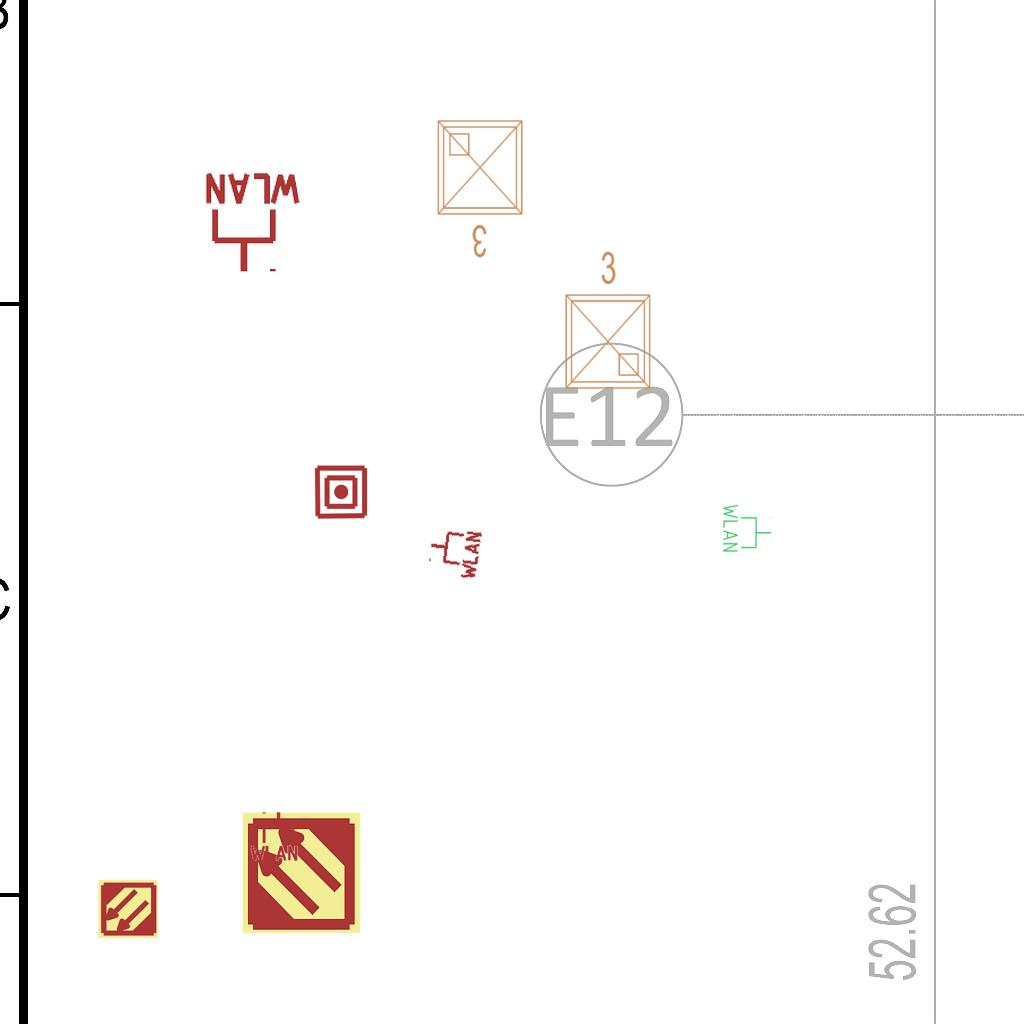ASR_Ansaugrauchmelder: (239, 810, 364, 935), (97, 878, 159, 940)
Einbaudownlights_LED_Konferenzraeume: (554, 246, 658, 396), (430, 113, 534, 263)
NAM-Nichtautomatischer_Melder: (313, 464, 369, 520)
WLAN: (201, 171, 305, 276), (424, 523, 484, 583), (721, 502, 773, 554), (248, 810, 300, 862)
